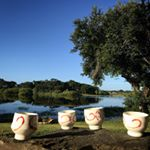cups: (9, 110, 40, 143), (121, 109, 150, 140), (82, 104, 105, 132), (56, 108, 77, 131)
